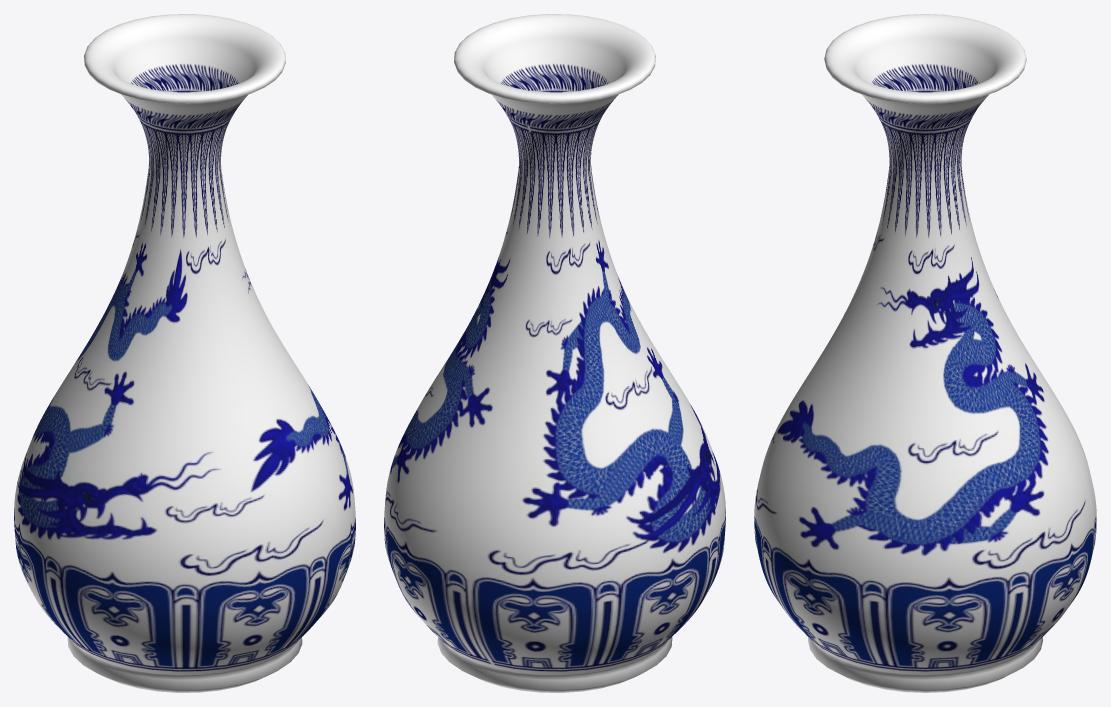
The picture shows the model from 3 angles, left to right: view 1: azimuth 30°, elevation 25°; view 2: azimuth 150°, elevation 25°; view 3: azimuth 270°, elevation 25°; orthographic projection.
Parts seen in each view (by area): view 1: Line01; view 2: Line01; view 3: Line01.
Part boxes in pixels (bbox=[...]): Line01: bbox=[14, 14, 355, 692]; Line01: bbox=[384, 14, 725, 692]; Line01: bbox=[754, 14, 1096, 692].
Size of the model in its own units: 150 by 288 by 150.
